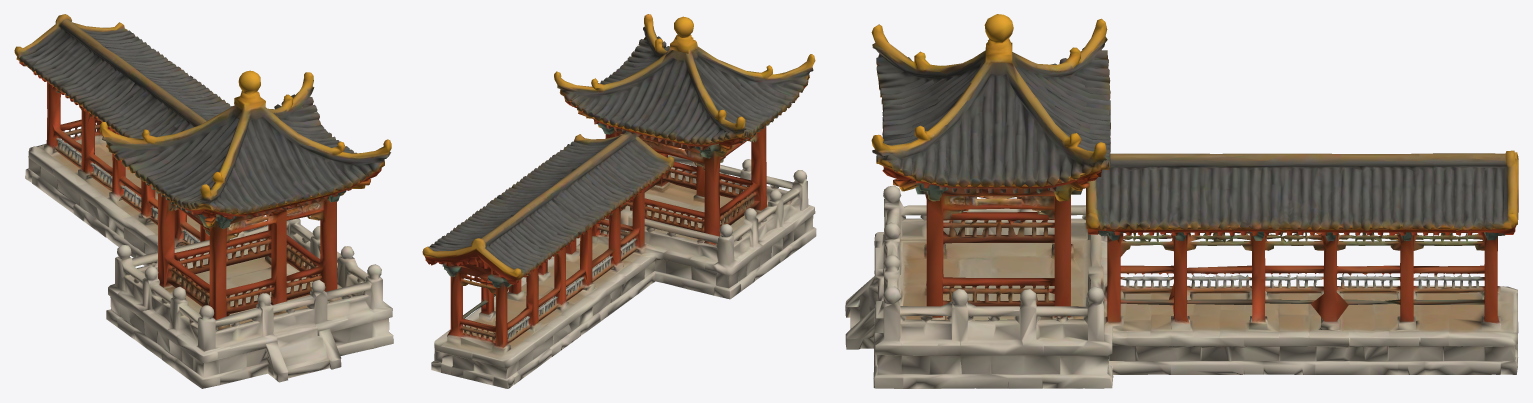
File: huagang.glb
3 views of the same model, side by side, from view 1: azimuth 30°, elevation 25°; view 2: azimuth 150°, elevation 25°; view 3: azimuth 270°, elevation 25° (orthographic). The views are drawn at different scales.
Visible parts, largest first — view 1: tripo_node_ed51bcb3-df0c-478e-b0a7-e41742d7e932; view 2: tripo_node_ed51bcb3-df0c-478e-b0a7-e41742d7e932; view 3: tripo_node_ed51bcb3-df0c-478e-b0a7-e41742d7e932.
Part boxes in pixels (x1=…): tripo_node_ed51bcb3-df0c-478e-b0a7-e41742d7e932: x1=14, y1=14, x2=393, y2=388; tripo_node_ed51bcb3-df0c-478e-b0a7-e41742d7e932: x1=422, y1=14, x2=816, y2=388; tripo_node_ed51bcb3-df0c-478e-b0a7-e41742d7e932: x1=845, y1=14, x2=1518, y2=388.
Bounding box in the file's own units: 0.4394 × 0.51 × 0.9792.
1 material, 1 textured.
